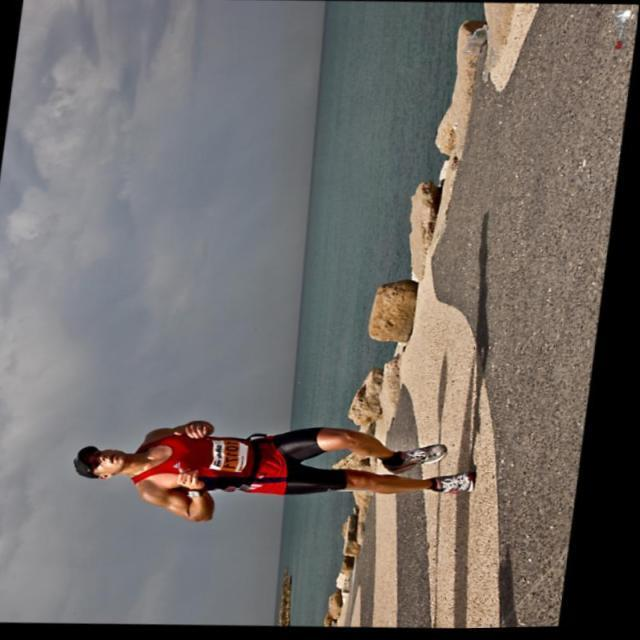dorsal: (211, 434, 266, 478)
